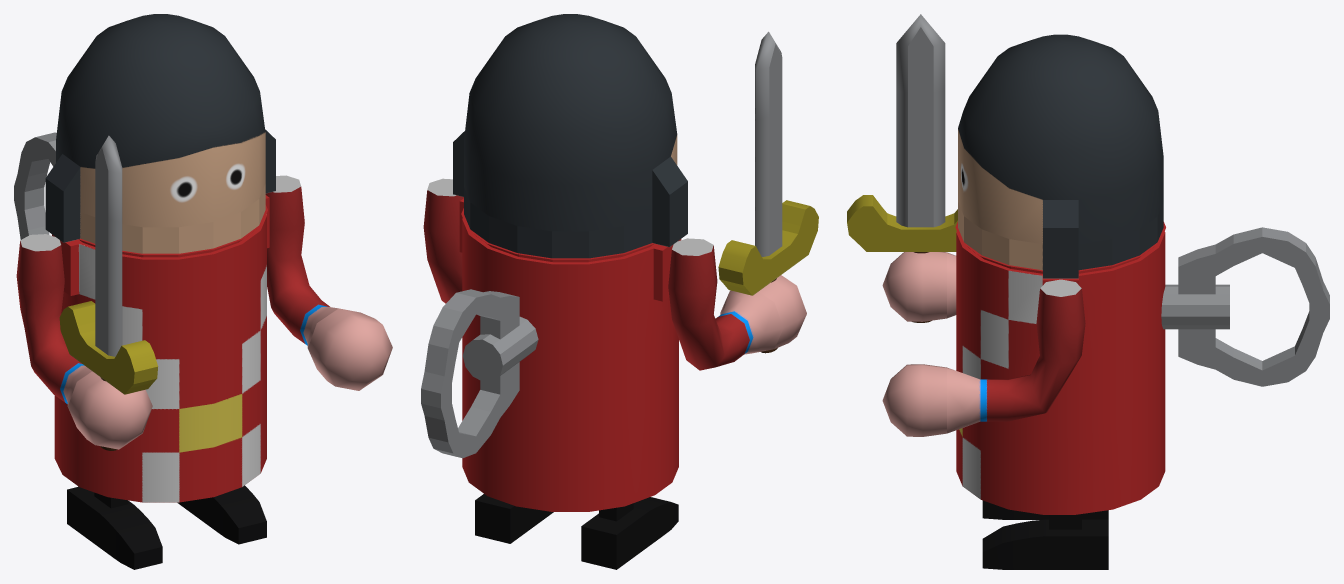
File: Texture_unit_sword.fbx
The picture shows the model from 3 angles, left to right: view 1: azimuth 30°, elevation 25°; view 2: azimuth 150°, elevation 25°; view 3: azimuth 270°, elevation 25°; orthographic projection. The views are drawn at different scales.
Parts seen in each view (by area): view 1: Sphere002, Object002, Object003, Line001, Object005, Object001, Object004; view 2: Sphere002, Object001, Object003, Line001, Object005, Object002, Object004; view 3: Sphere002, Line001, Object001, Object002, Object004, Object003, Object005.
Part boxes in pixels (bbox=[...]): Sphere002: bbox=[45, 14, 275, 502]; Object002: bbox=[265, 175, 392, 390]; Object003: bbox=[16, 234, 152, 449]; Line001: bbox=[59, 135, 158, 450]; Object005: bbox=[67, 486, 162, 569]; Object001: bbox=[14, 132, 56, 239]; Object004: bbox=[177, 485, 266, 544]; Sphere002: bbox=[453, 14, 687, 511]; Object001: bbox=[421, 289, 538, 458]; Object003: bbox=[668, 238, 806, 370]; Line001: bbox=[718, 31, 818, 353]; Object005: bbox=[581, 497, 678, 569]; Object002: bbox=[423, 178, 463, 303]; Object004: bbox=[475, 494, 553, 543]; Sphere002: bbox=[955, 34, 1165, 514]; Line001: bbox=[847, 14, 957, 322]; Object001: bbox=[1161, 227, 1329, 386]; Object002: bbox=[882, 279, 1085, 436]; Object004: bbox=[982, 514, 1108, 569]; Object003: bbox=[882, 252, 956, 321]; Object005: bbox=[982, 500, 1108, 519].
Bounding box in the file's own units: 50.24 × 69.33 × 78.06.
5 materials, 5 textured.
